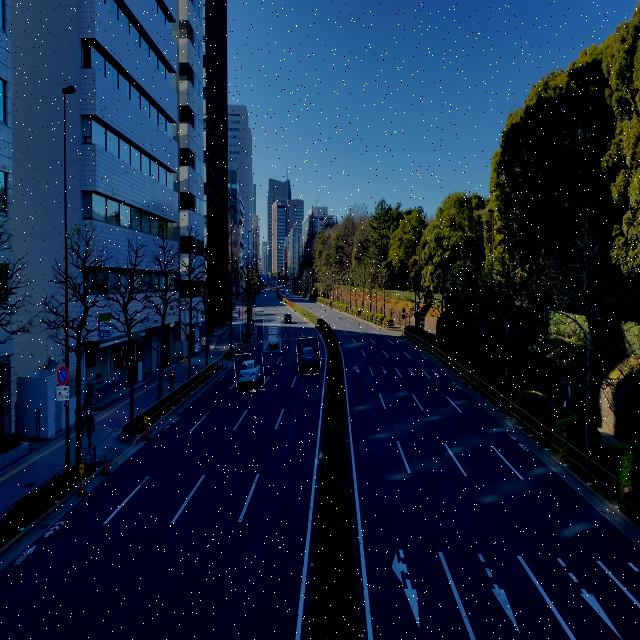Car: (235, 354, 265, 392), (297, 337, 320, 375), (263, 320, 281, 352)
